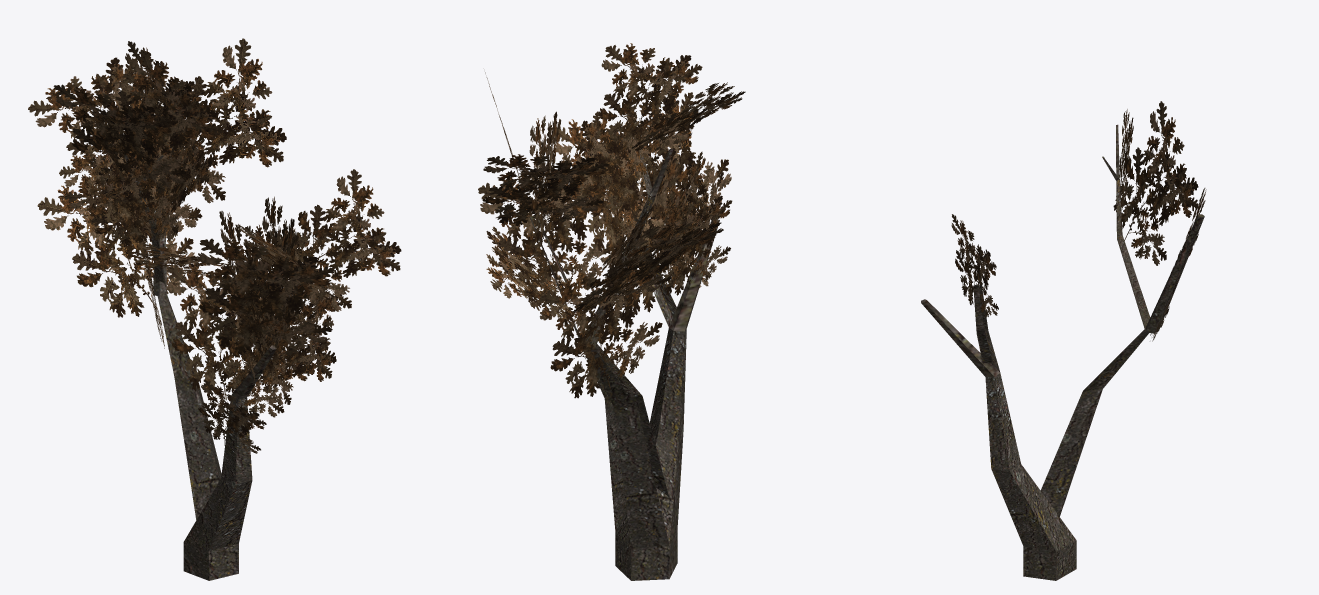
File: tree07.glb
3 views of the same model, side by side, from view 1: azimuth 30°, elevation 25°; view 2: azimuth 150°, elevation 25°; view 3: azimuth 270°, elevation 25° (orthographic). The views are drawn at different scales.
Visible parts, largest first — view 1: treee07; view 2: treee07; view 3: treee07.
Boxes of the visible parts, <box> form: treee07: <box>28,38,401,580</box>; treee07: <box>478,43,745,580</box>; treee07: <box>921,101,1206,580</box>.
Bounding box in the file's own units: 36.29 × 68.9 × 54.95.
Materials: 1 (1 with a texture image).
